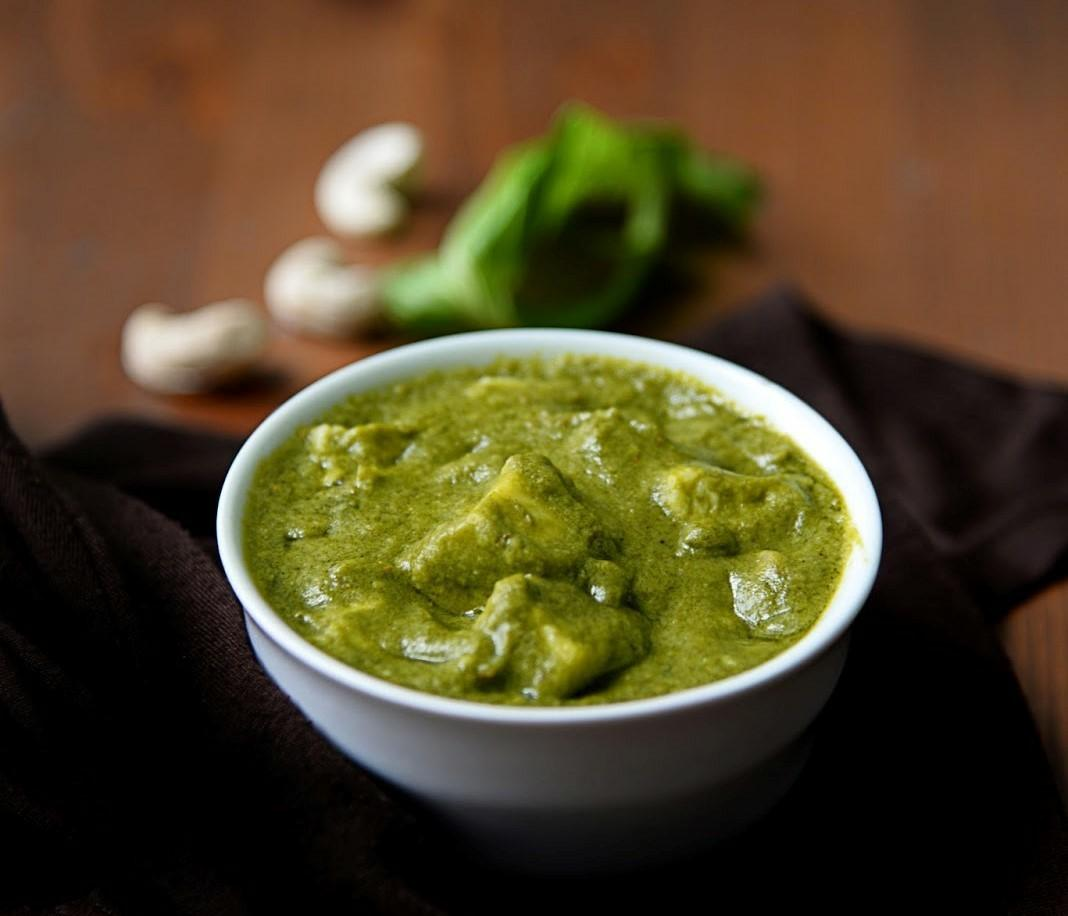PalakPaneer: (249, 354, 860, 707)
